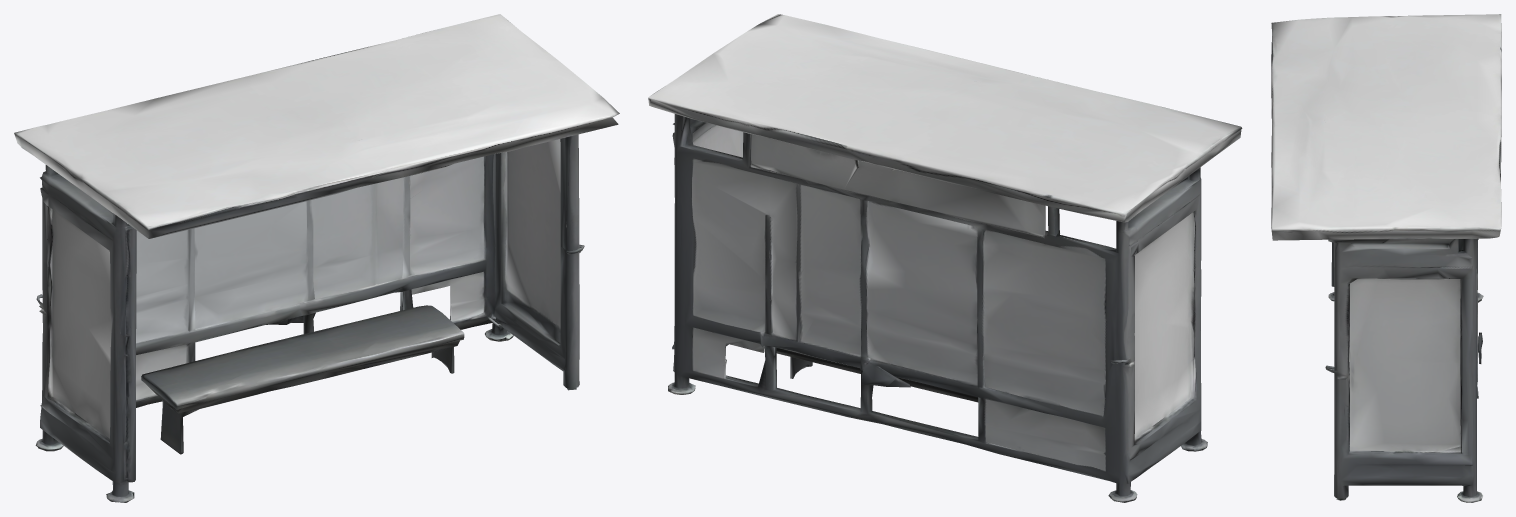
Rendered from bus-shelter.glb.
3 views of the same model, side by side, from view 1: azimuth 30°, elevation 25°; view 2: azimuth 150°, elevation 25°; view 3: azimuth 270°, elevation 25° (orthographic). The views are drawn at different scales.
Visible parts, largest first — view 1: tripo_node_f6e42b53-0e09-4b3e-a0b8-65874cbc66f4; view 2: tripo_node_f6e42b53-0e09-4b3e-a0b8-65874cbc66f4; view 3: tripo_node_f6e42b53-0e09-4b3e-a0b8-65874cbc66f4.
Part boxes in pixels (x1,y1,x2,y2): tripo_node_f6e42b53-0e09-4b3e-a0b8-65874cbc66f4: [14, 14, 619, 502]; tripo_node_f6e42b53-0e09-4b3e-a0b8-65874cbc66f4: [648, 14, 1242, 502]; tripo_node_f6e42b53-0e09-4b3e-a0b8-65874cbc66f4: [1271, 14, 1501, 502].
Size of the model in its own units: 6 by 3.66 by 2.72.
1 material, 1 textured.
